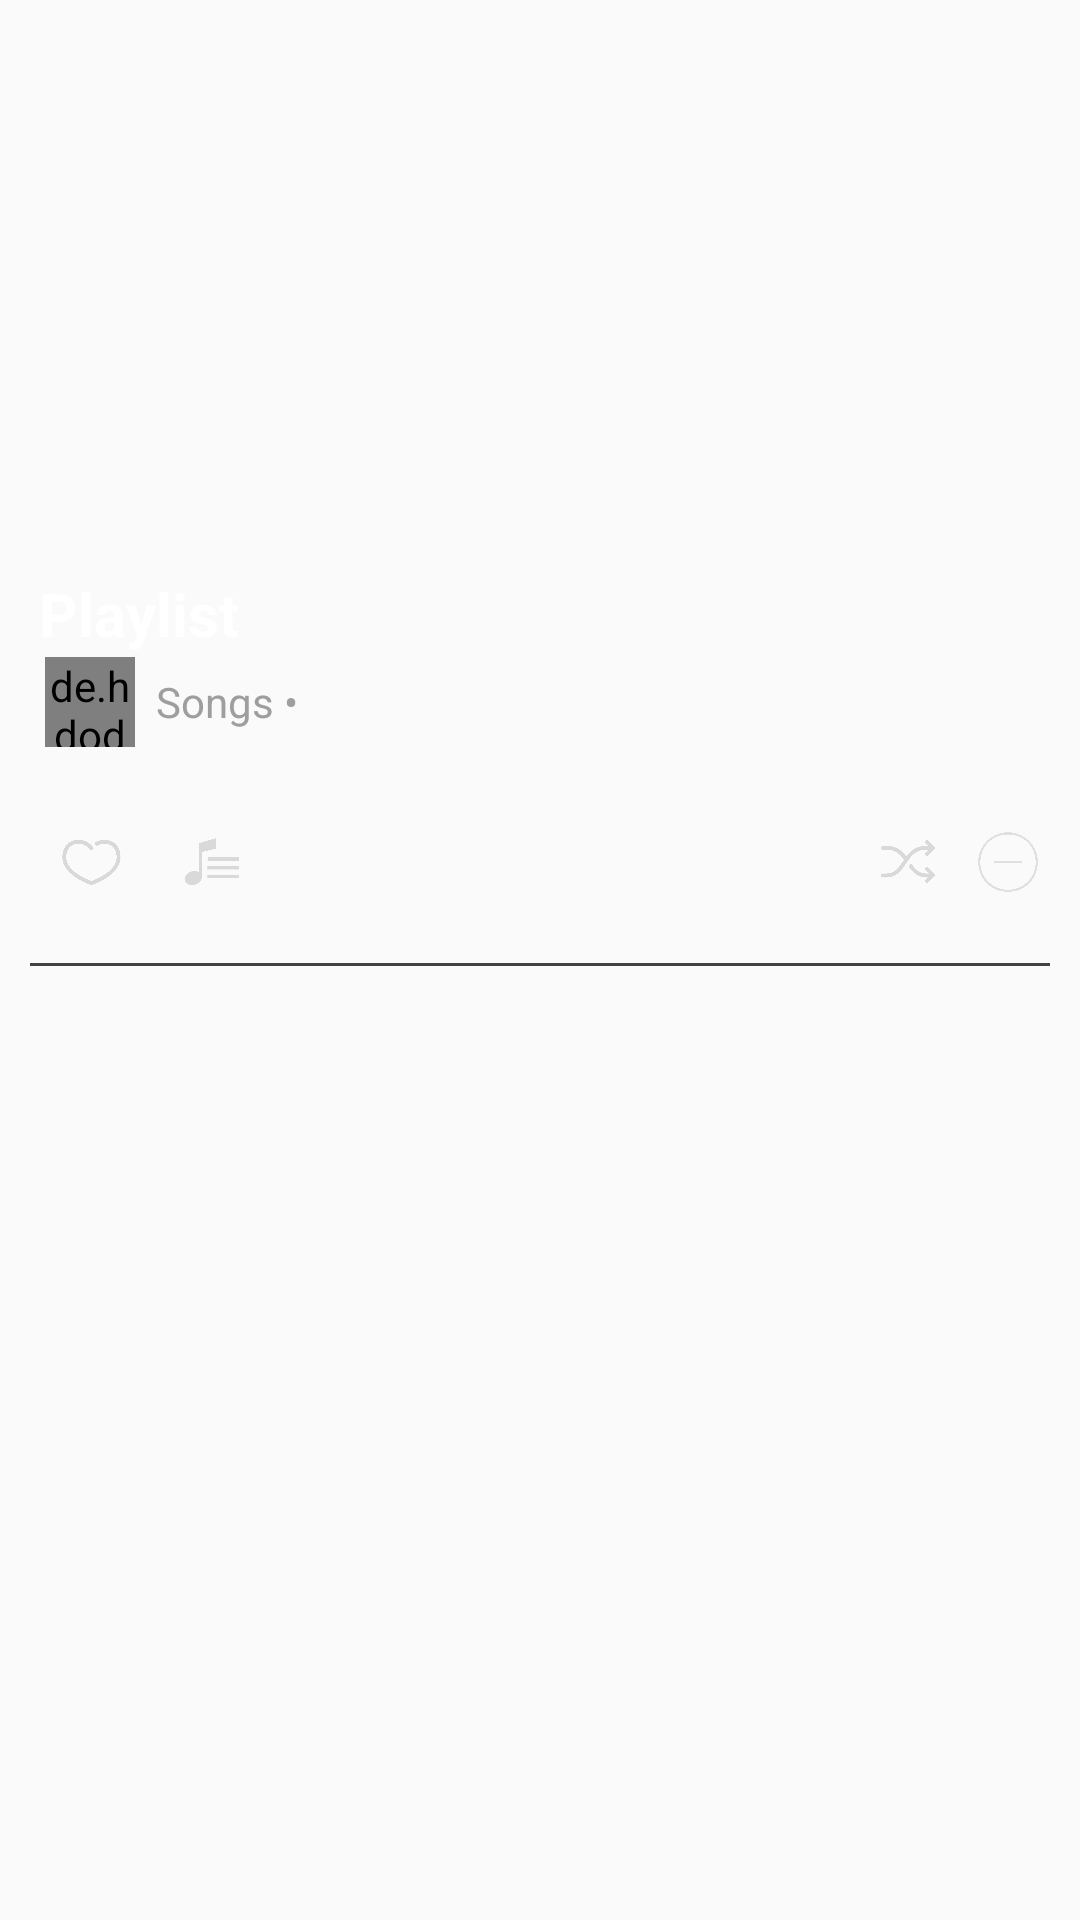

Where icons sit on this 1080w x 1920h app screen, as (x1, y1, x2, y2):
favorites: (62, 840, 120, 885)
playlist: (185, 838, 239, 885)
remove: (978, 832, 1038, 892)
shuffle song: (881, 840, 935, 883)
